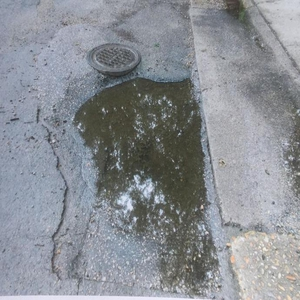pothole: (74, 75, 206, 274)
